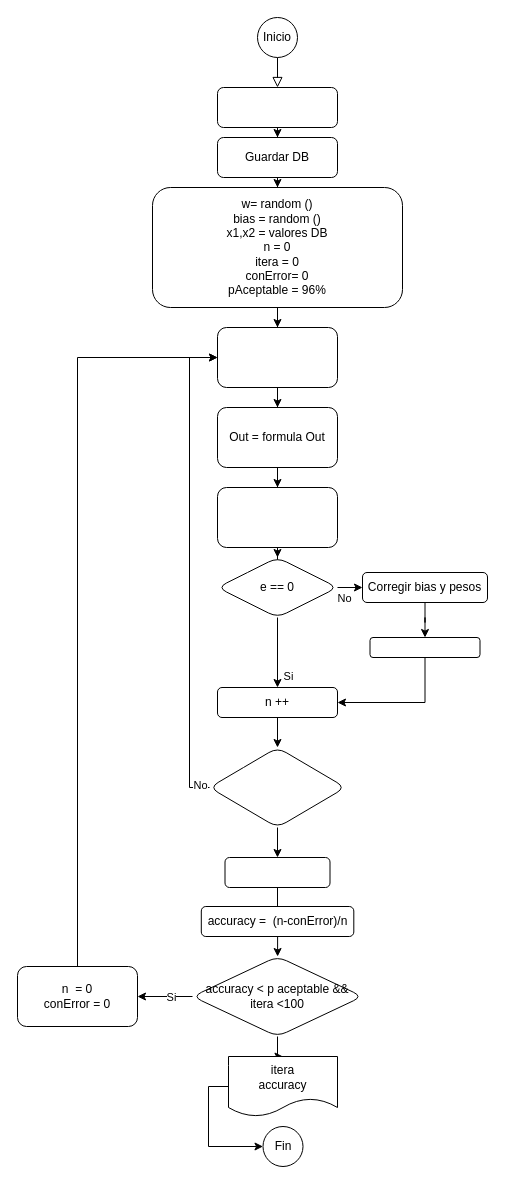
Image size: 505x1184. Some labels were removed from this diagram. The shapes that lost their labels are listed below. From the top down, each one's centre as x and y in pixels, then its label:
At [277,107]: "Leer DB".
At [277,357]: "Net = formula net".
At [277,517]: "Obtener Error_n".
At [424,647]: "conError++".
At [277,787]: "n<= num_patrones".
At [277,872]: "itera++".
